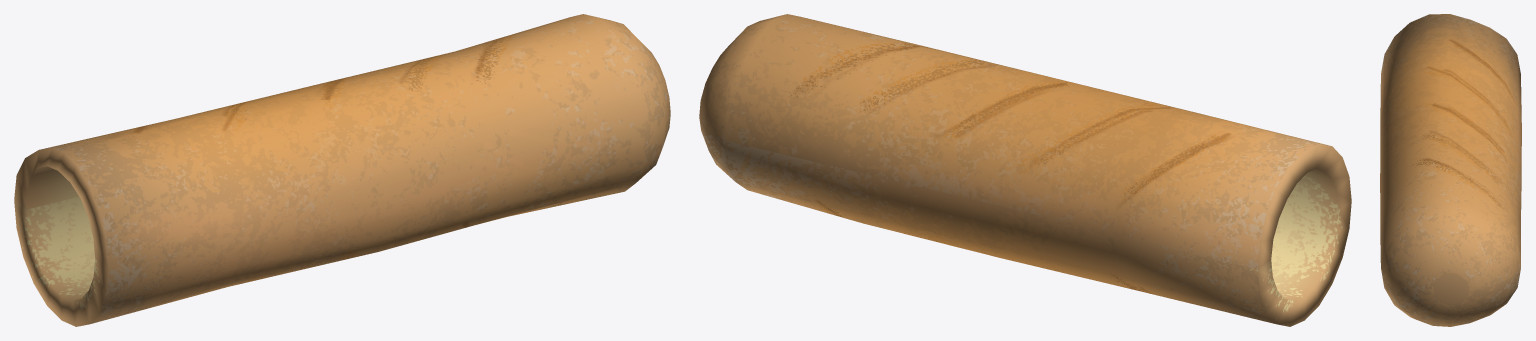
The model's file is frechdog.fbx.
The picture shows the model from 3 angles, left to right: view 1: azimuth 30°, elevation 25°; view 2: azimuth 150°, elevation 25°; view 3: azimuth 270°, elevation 25°; orthographic projection. The views are drawn at different scales.
Visible parts, largest first — view 1: Cylinder.001; view 2: Cylinder.001; view 3: Cylinder.001.
Boxes of the visible parts, bbox=[...] form: Cylinder.001: bbox=[14, 14, 670, 326]; Cylinder.001: bbox=[699, 14, 1351, 326]; Cylinder.001: bbox=[1380, 14, 1521, 326].
Size of the model in its own units: 22.63 by 6.24 by 6.31.
1 material, 1 textured.
